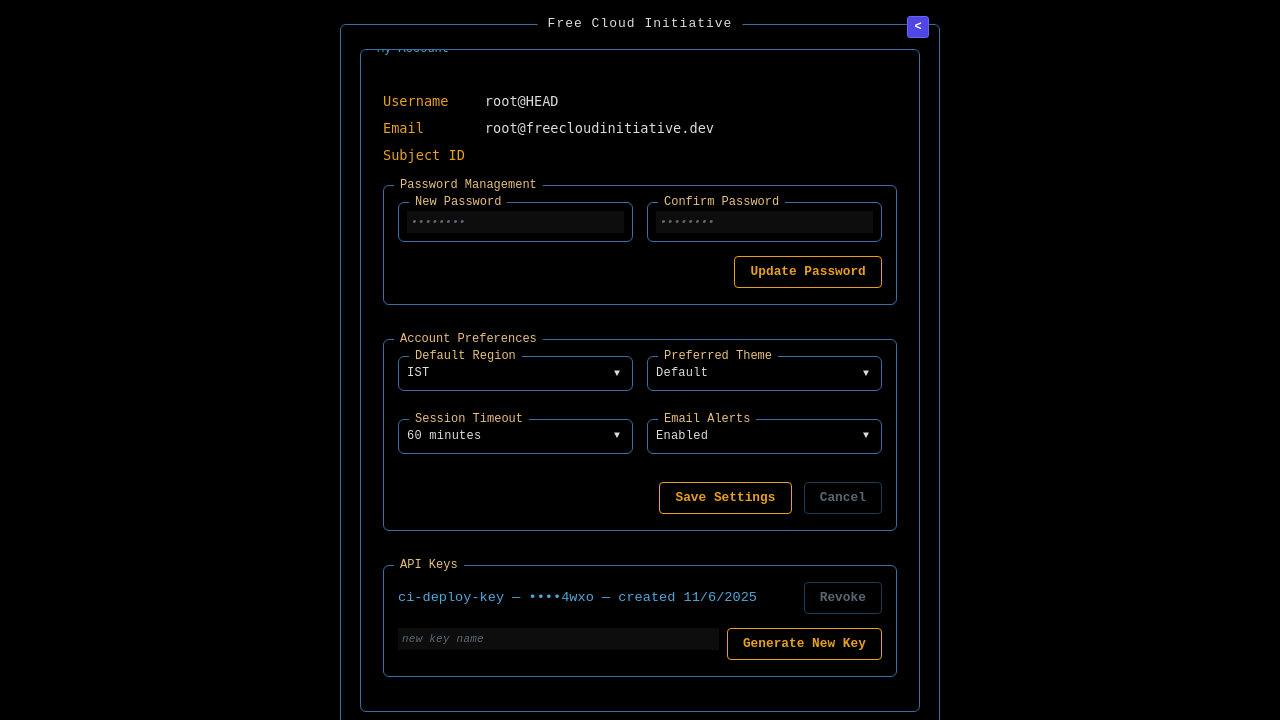
Scenario: MyAccountPage › saves general account settings independently without requiring password
Click the button "Save Settings". click: click(725, 498)
box: [659, 482, 792, 514]
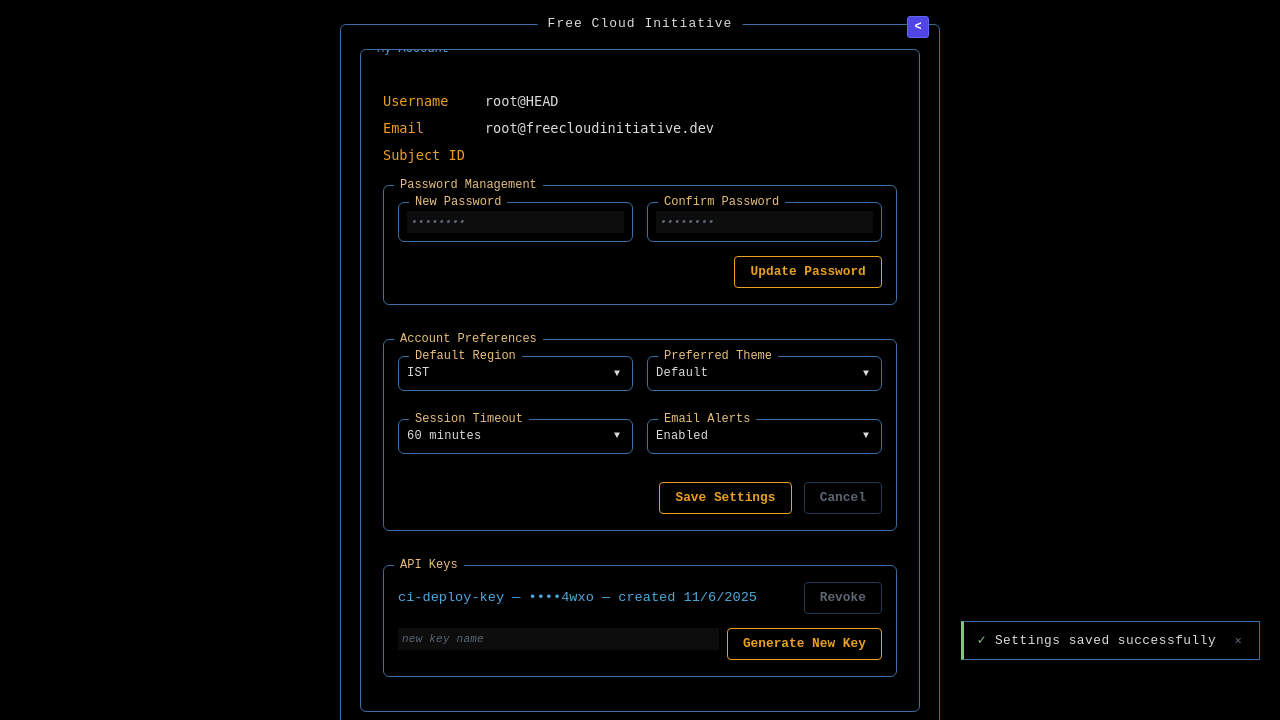
Check: the text "Settings saved successfully" is shown, box [995, 632, 1216, 650]
